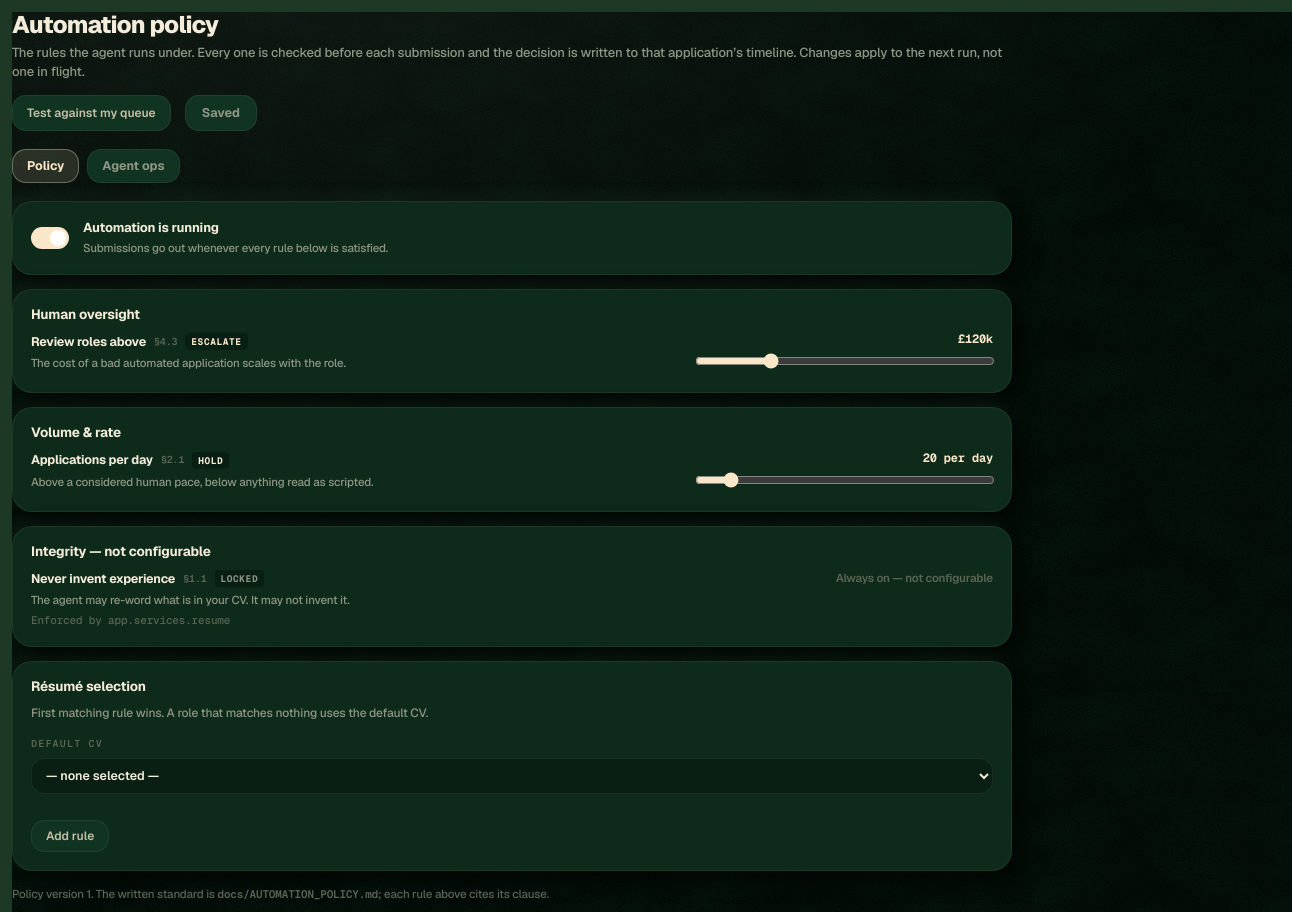
AutomationPage › shows the kill switch as its own banner and states what pausing does
The width and height of the screenshot is (1292, 912).
expect the text "Automation is running" is shown: met, box [83,219,219,236]
Step 1. Click the switch named "automation running" → (50, 238), box [31,227,69,249]
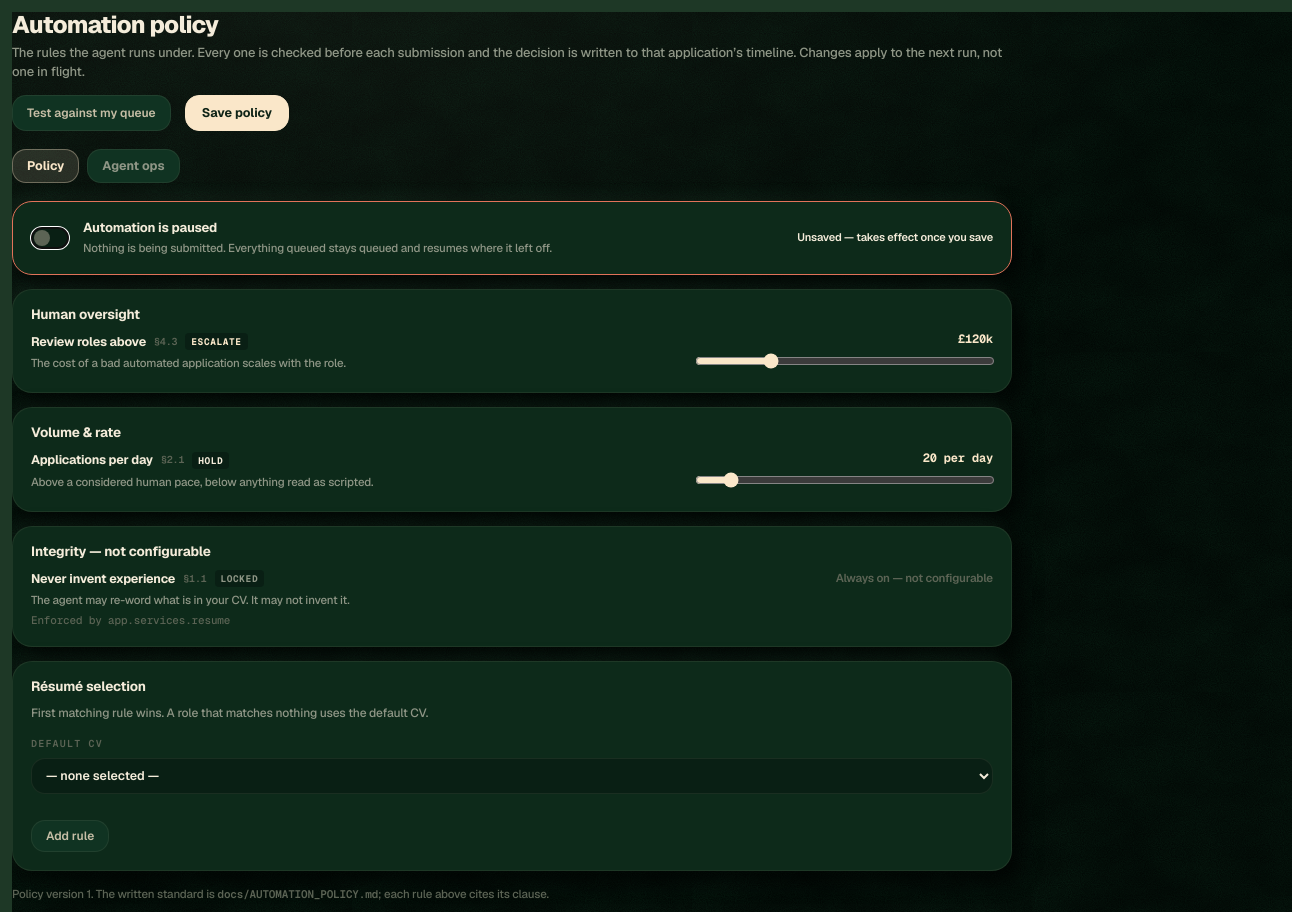
expect the text "Automation is paused" is shown: met, box [83,219,217,236]
expect the text "Everything queued stays queued" is shown: met, box [83,240,552,255]
